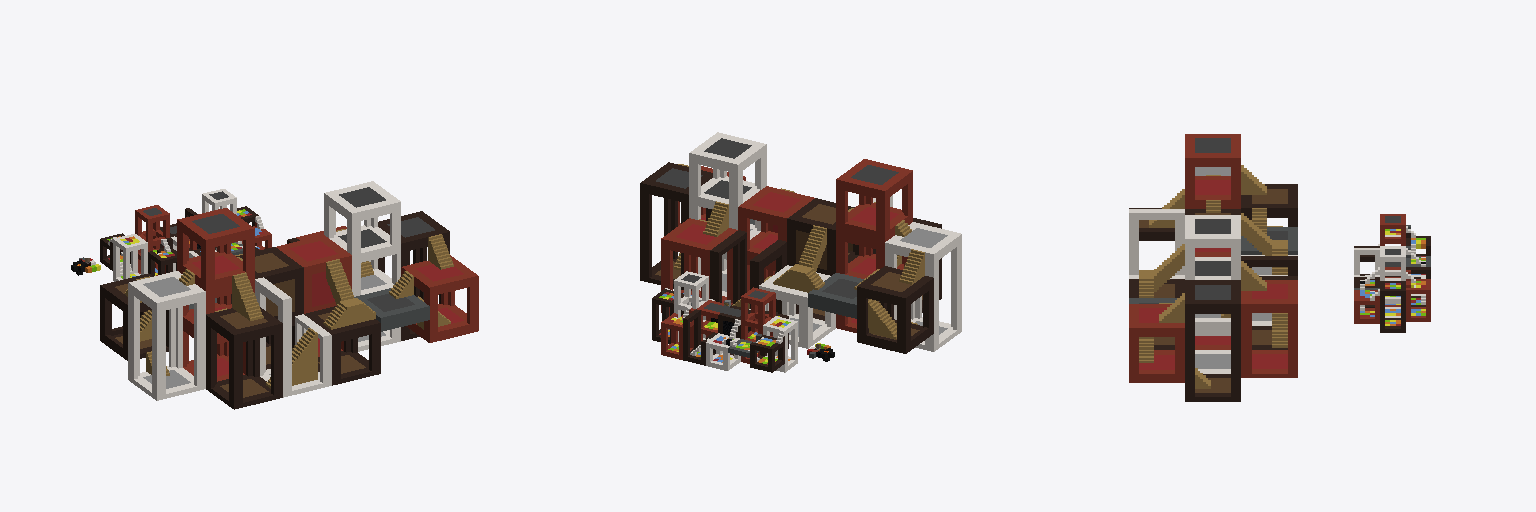
3 views of the same model, side by side, from view 1: azimuth 30°, elevation 25°; view 2: azimuth 150°, elevation 25°; view 3: azimuth 270°, elevation 25° (orthographic).
Size of the model in its own units: 66 by 32 by 59.
25 materials, 5 textured.